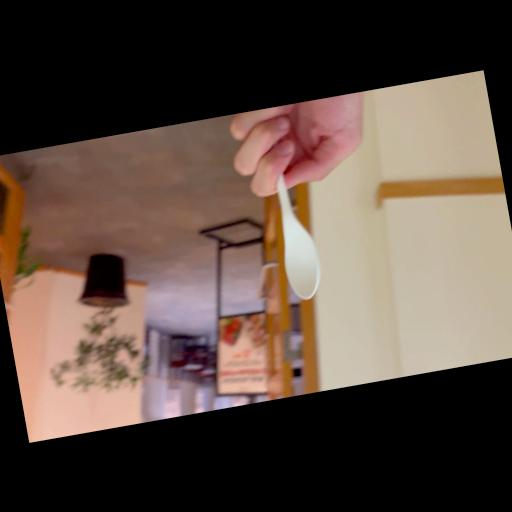utensil: (265, 162, 329, 306)
